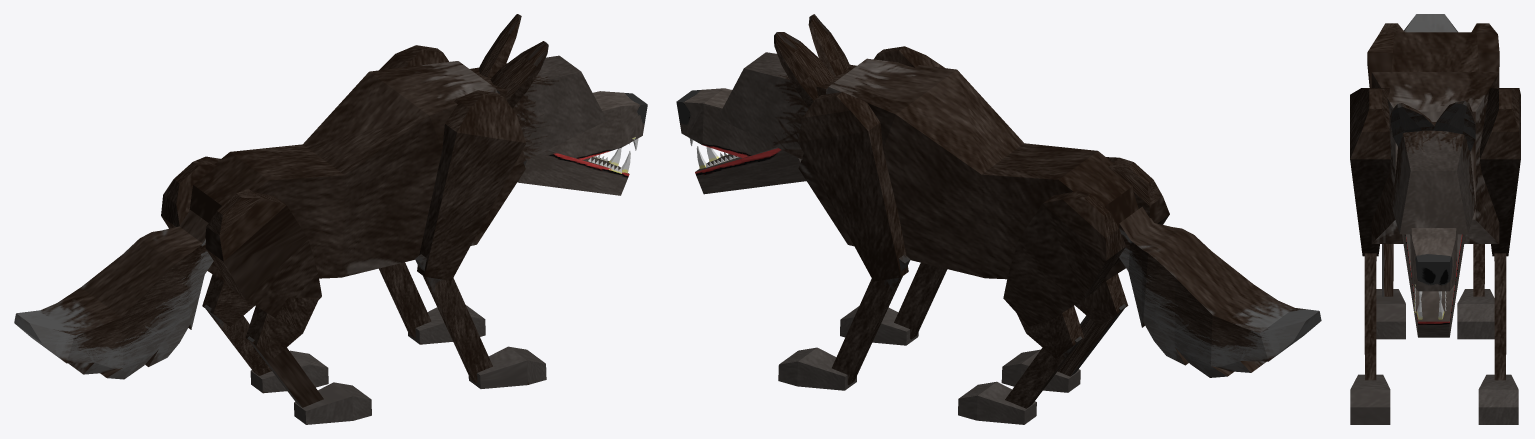
The model's file is wolfModel.fbx.
The picture shows the model from 3 angles, left to right: view 1: azimuth 30°, elevation 25°; view 2: azimuth 150°, elevation 25°; view 3: azimuth 270°, elevation 25°; orthographic projection. The views are drawn at different scales.
Visible parts, largest first — view 1: Cube.000; view 2: Cube.000; view 3: Cube.000.
Boxes of the visible parts, bbox=[...] form: Cube.000: bbox=[14, 14, 647, 424]; Cube.000: bbox=[676, 14, 1321, 424]; Cube.000: bbox=[1350, 14, 1520, 424].
Size of the model in its own units: 993 by 492 by 225.
Materials: 1 (1 with a texture image).
